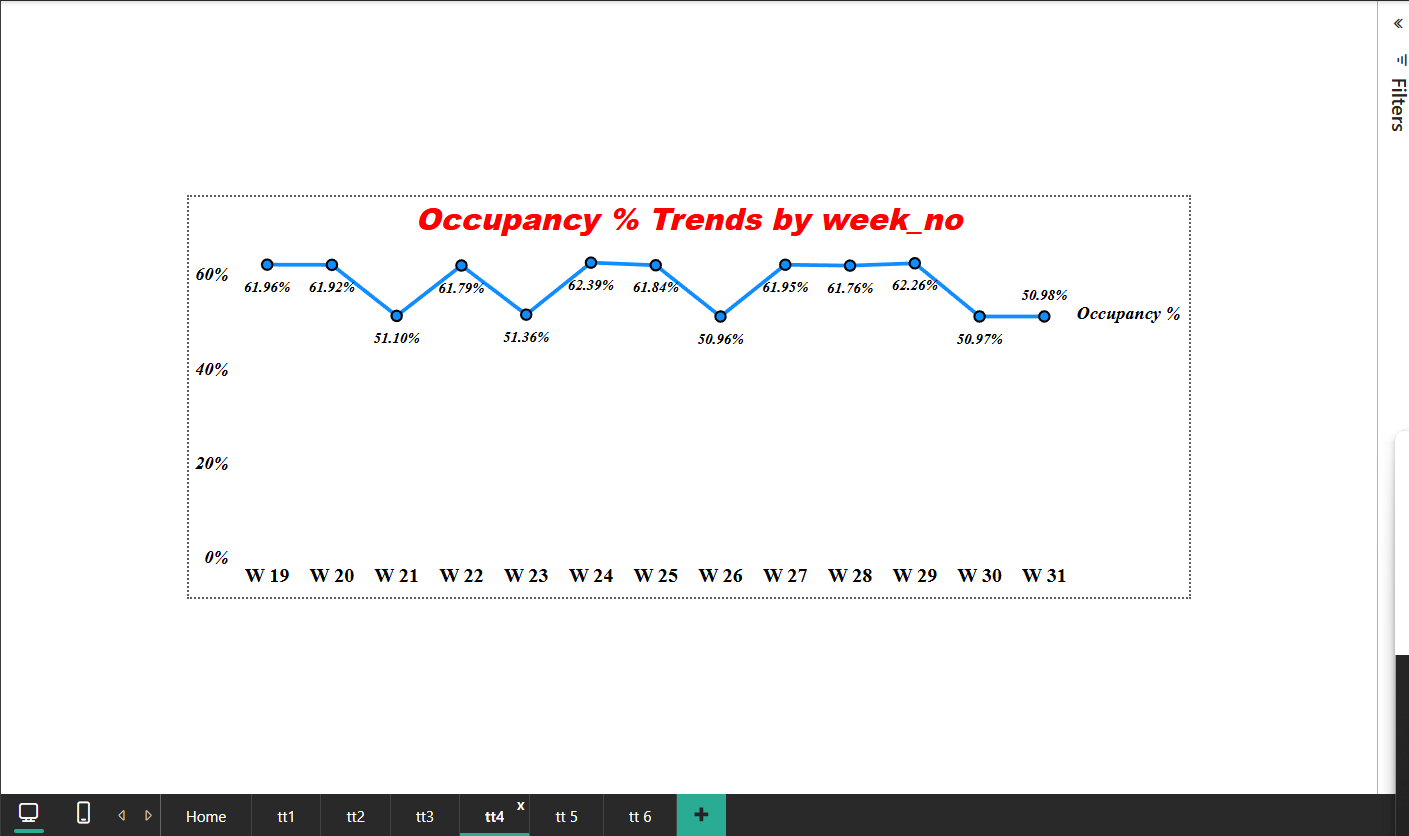

The page's visual inventory and layout, read from the dashboard file:
{"tool":"powerbi","page":{"name":"tt4","canvas":[800,320],"ordinal":4},"visuals":[{"type":"lineChart","title":"Occupancy % Trends by week_no","fields":{"Category":["dim_date.week_no"],"Y":["Imp measures.Occupancy %"]},"box":[0,0,800,320],"z":0}]}

Visuals, with their boxes on the page's 800x320 design canvas (x1, y1, x2, y2). These are canvas units, not pixel positions in the 1409x836 screenshot, which may show the page scaled, cropped or inside an application window:
"Occupancy % Trends by week_no" lineChart: {"x1": 0, "y1": 0, "x2": 800, "y2": 320}
